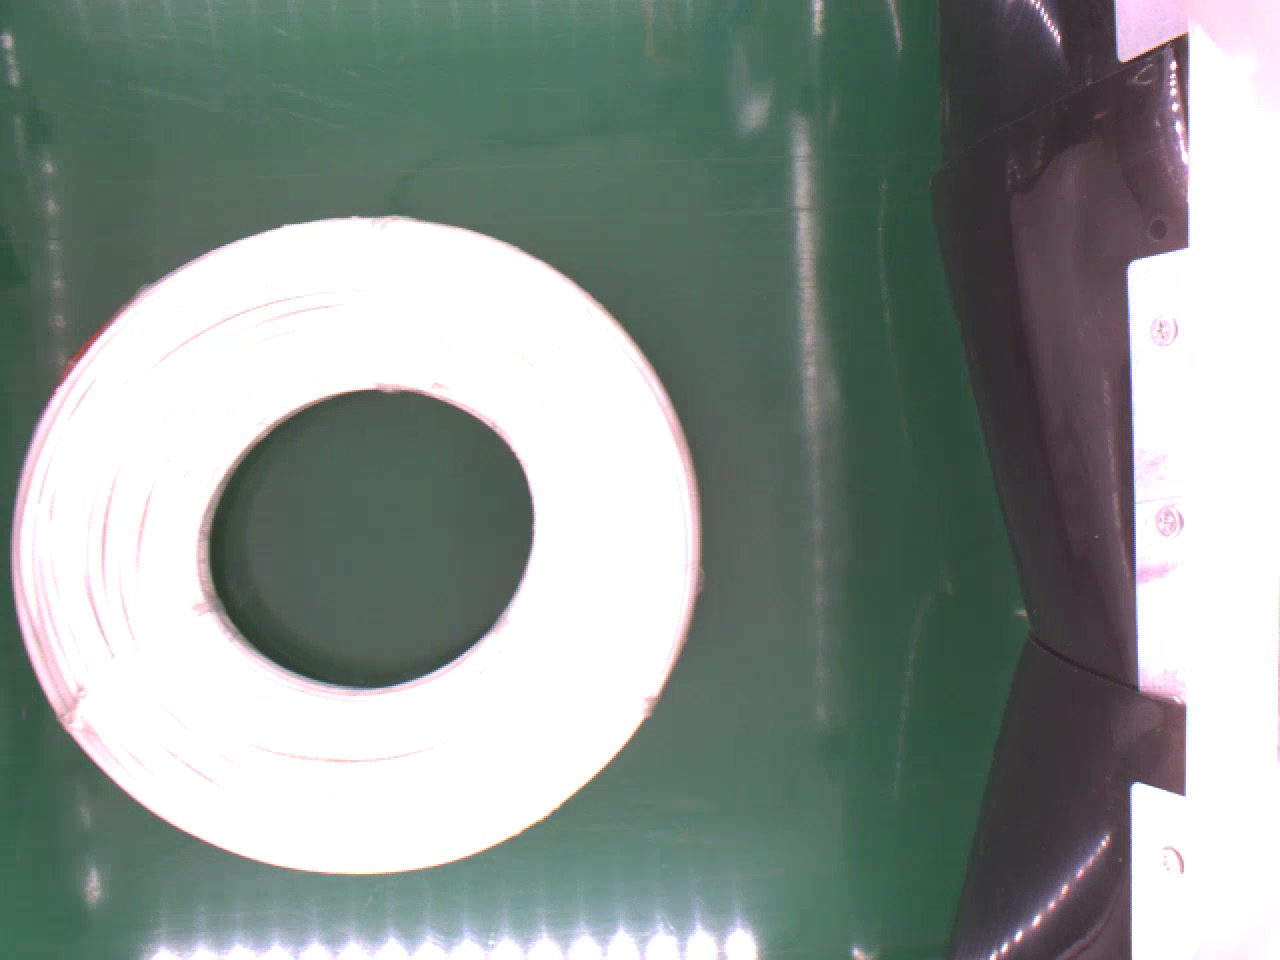white: (2, 209, 703, 872)
